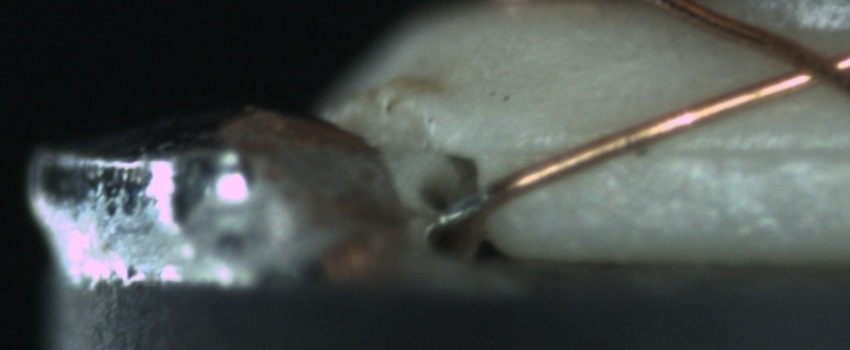CL: (763, 32, 847, 95)
DL: (514, 121, 850, 182)
TS: (430, 181, 503, 229)
TTCW: (430, 168, 516, 230)
